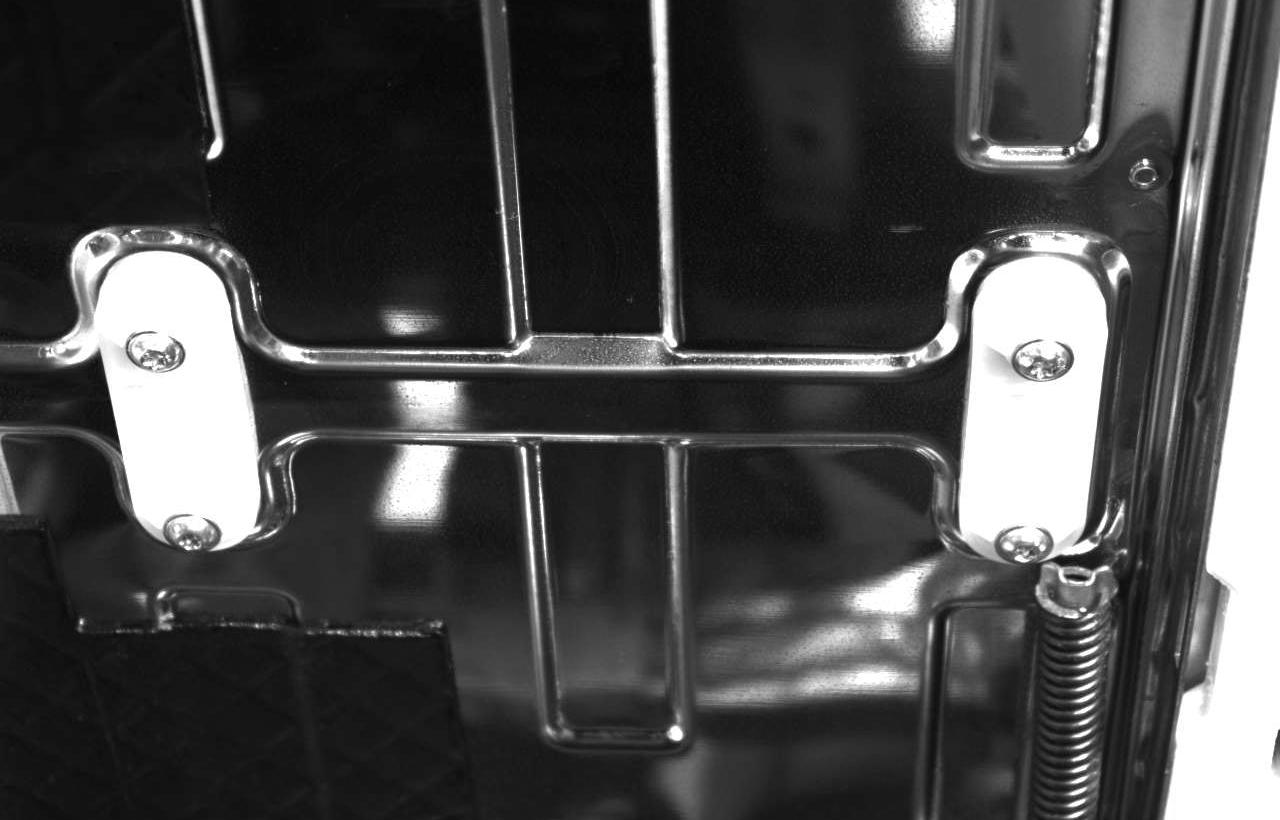vida-ok: (114, 311, 201, 388), (991, 322, 1079, 395), (155, 501, 236, 565), (980, 520, 1055, 578)
